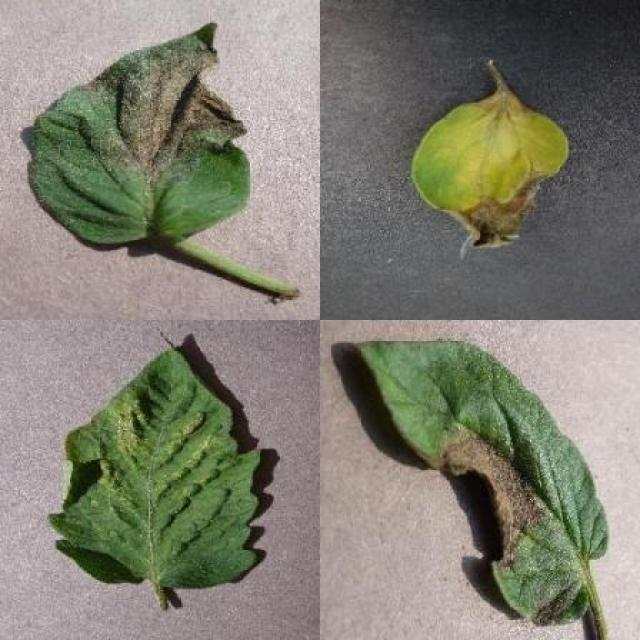Late Blight: (350, 336, 610, 626), (27, 22, 250, 247), (414, 90, 570, 260)
Spider Mites: (48, 344, 262, 586)
